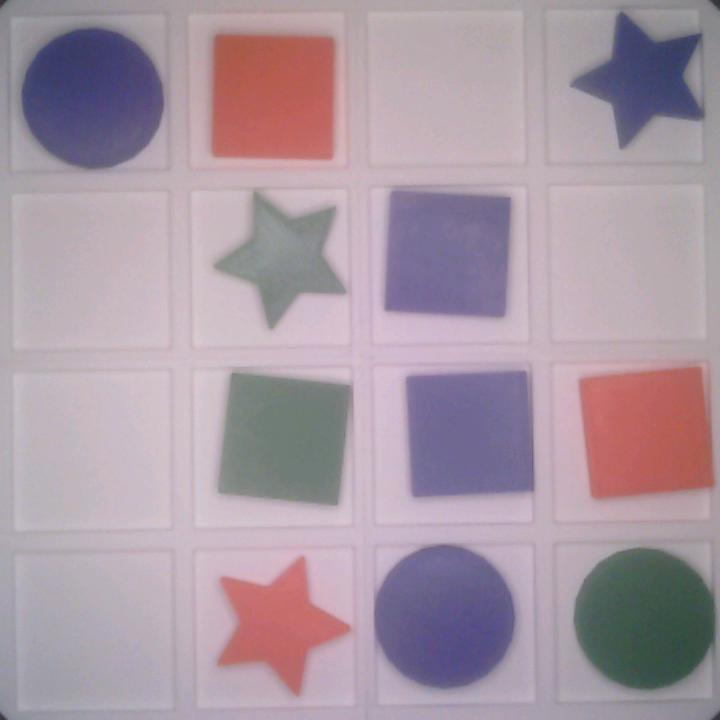Blue circle: (371, 545, 513, 686), (24, 30, 164, 170)
Blue square: (380, 182, 521, 328), (403, 367, 537, 505)
Blue star: (571, 11, 709, 156)
Green circle: (571, 542, 720, 689)
Green square: (217, 370, 350, 510)
Green star: (206, 187, 350, 334)
Orange square: (574, 362, 717, 501), (209, 29, 336, 162)
Orange star: (217, 550, 350, 701)
